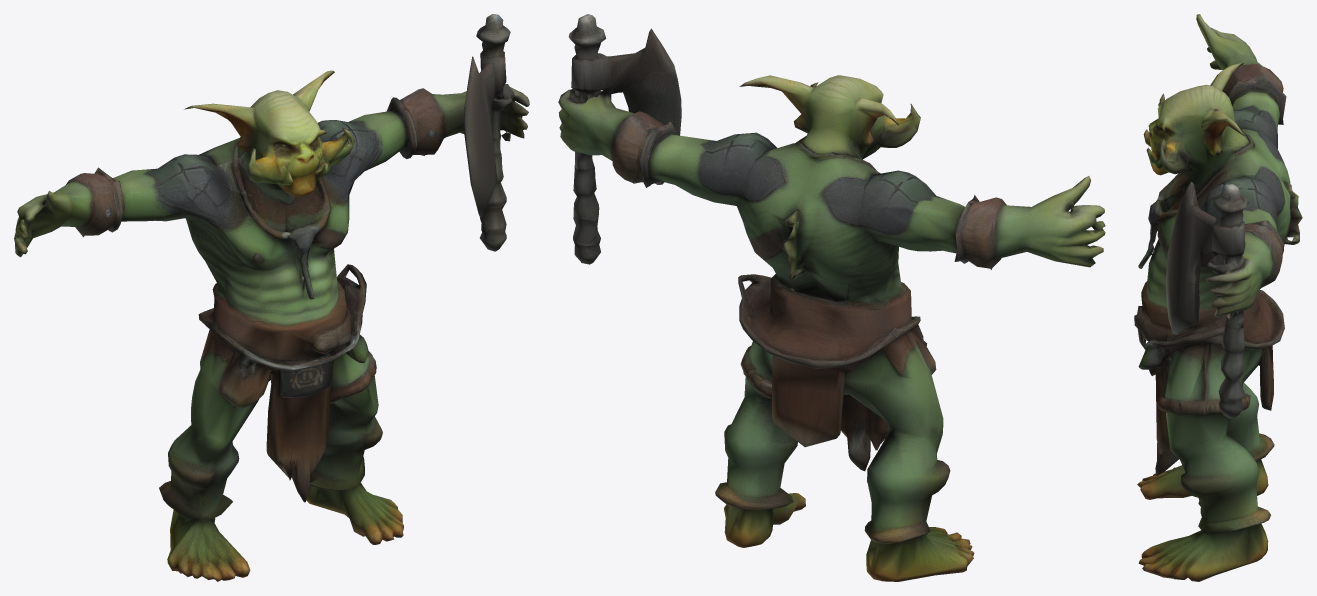
The model's file is goblin.glb.
3 renders of one model, left to right at view 1: azimuth 30°, elevation 25°; view 2: azimuth 150°, elevation 25°; view 3: azimuth 270°, elevation 25°, orthographic. The views are drawn at different scales.
Bounding box in the file's own units: 2 × 1.74 × 0.58.
1 material, 1 textured.
